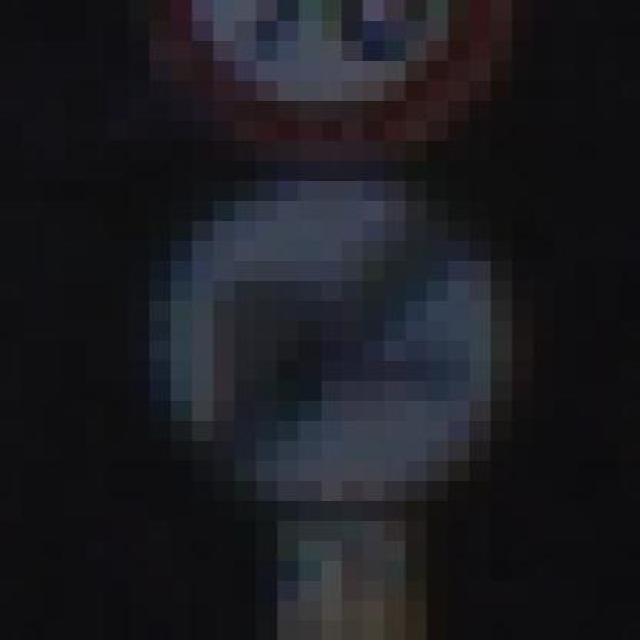Overtaking by trucks is prohibited: (107, 120, 598, 540)
